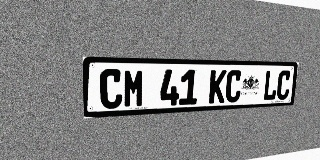1: (179, 69, 198, 105)
4: (160, 69, 180, 106)
C: (100, 69, 123, 109), (225, 70, 242, 103), (276, 70, 291, 100)
K: (208, 70, 227, 104)
L: (262, 70, 279, 101)
M: (123, 69, 145, 108)
